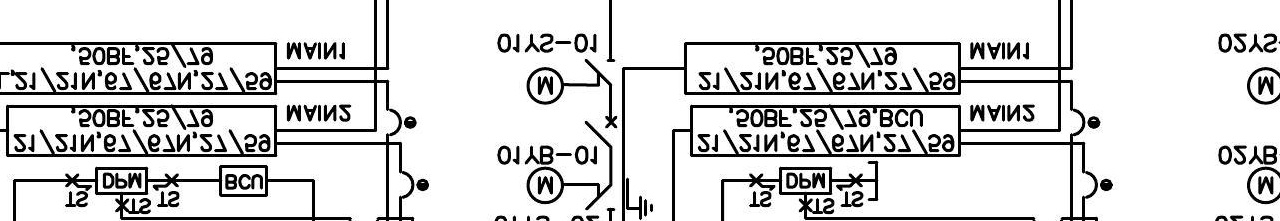115_1way_ds_w_motor: (526, 58, 616, 105)
115_3ways_ds_w_motor: (526, 166, 654, 221)
115_breaker: (584, 116, 618, 148)
BCU: (218, 164, 269, 198)
DPM: (94, 166, 148, 196), (778, 167, 832, 195)
